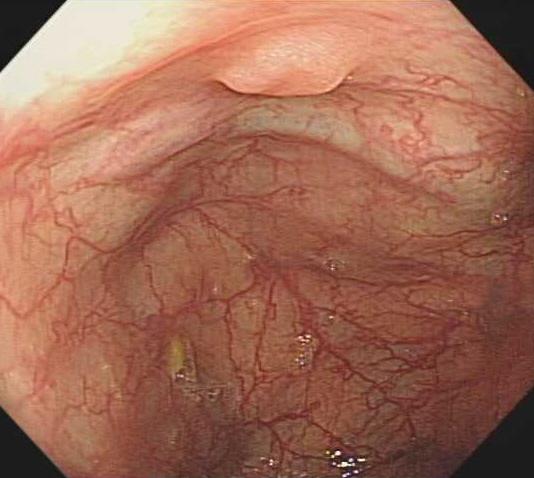adenoma: (211, 26, 366, 98)
